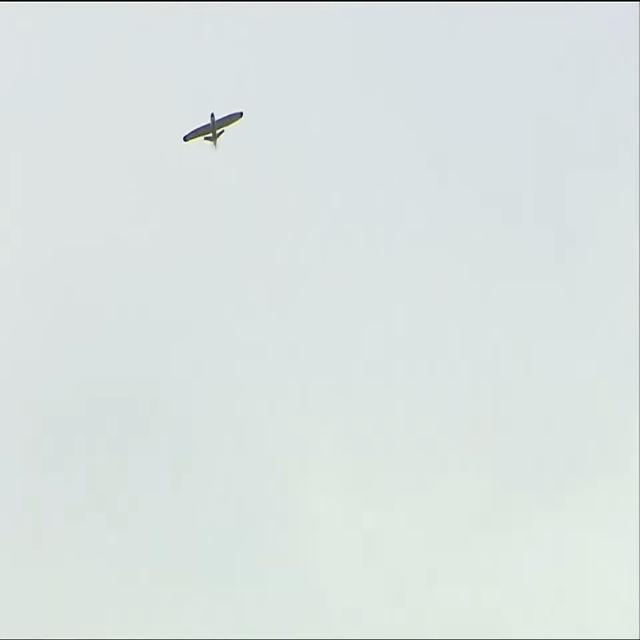iha: (182, 109, 244, 152)
